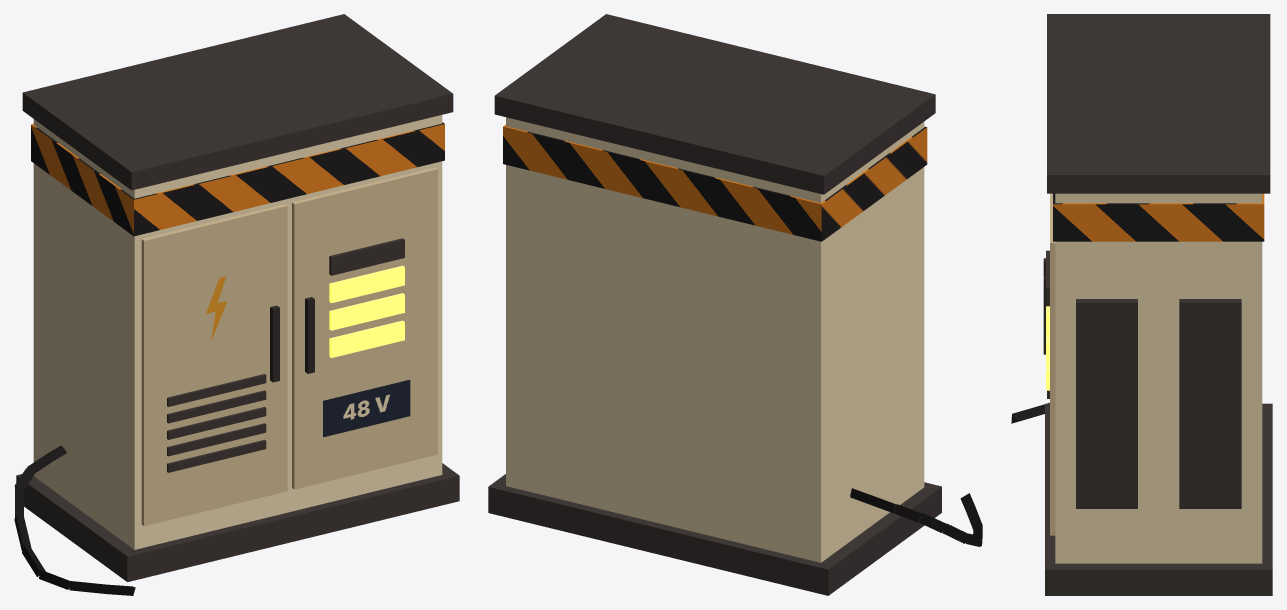
File: baterie-T2-skrin.glb
3 renders of one model, left to right at view 1: azimuth 30°, elevation 25°; view 2: azimuth 150°, elevation 25°; view 3: azimuth 270°, elevation 25°, orthographic. The views are drawn at different scales.
Visible parts, largest first — view 1: baterie-T2-skrin; view 2: baterie-T2-skrin; view 3: baterie-T2-skrin.
Boxes of the visible parts, left/top/right/bottom form: baterie-T2-skrin: left=14, top=14, right=459, bottom=595; baterie-T2-skrin: left=488, top=14, right=982, bottom=595; baterie-T2-skrin: left=1011, top=14, right=1272, bottom=595.
Bounding box in the file's own units: 2.95 × 2.92 × 1.64.
Materials: 9 (2 with a texture image).
